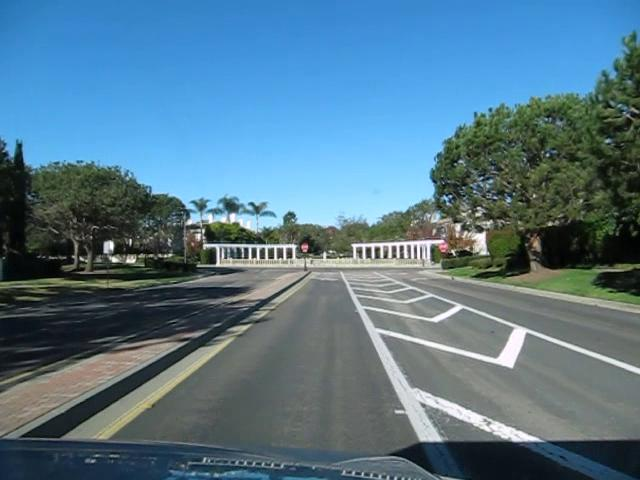stop: (438, 241, 448, 252)
